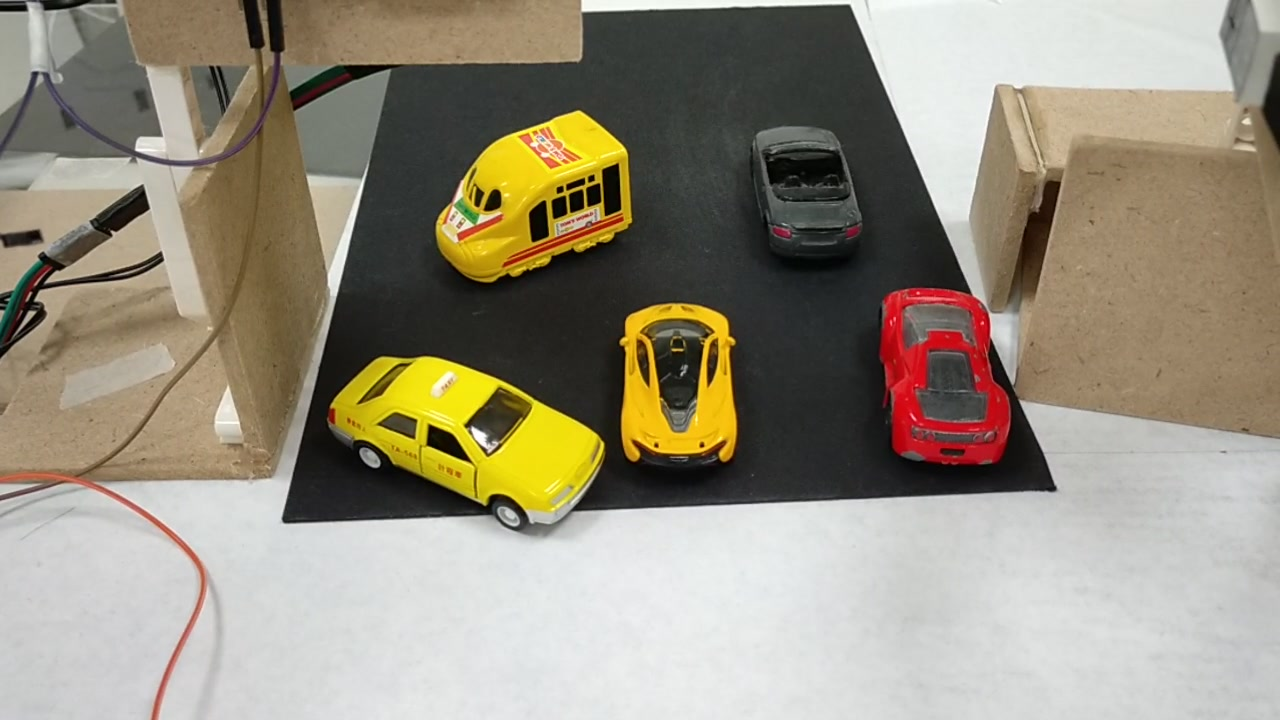car: (333, 352, 601, 544), (877, 277, 1007, 472), (613, 298, 743, 471), (748, 130, 861, 261)
